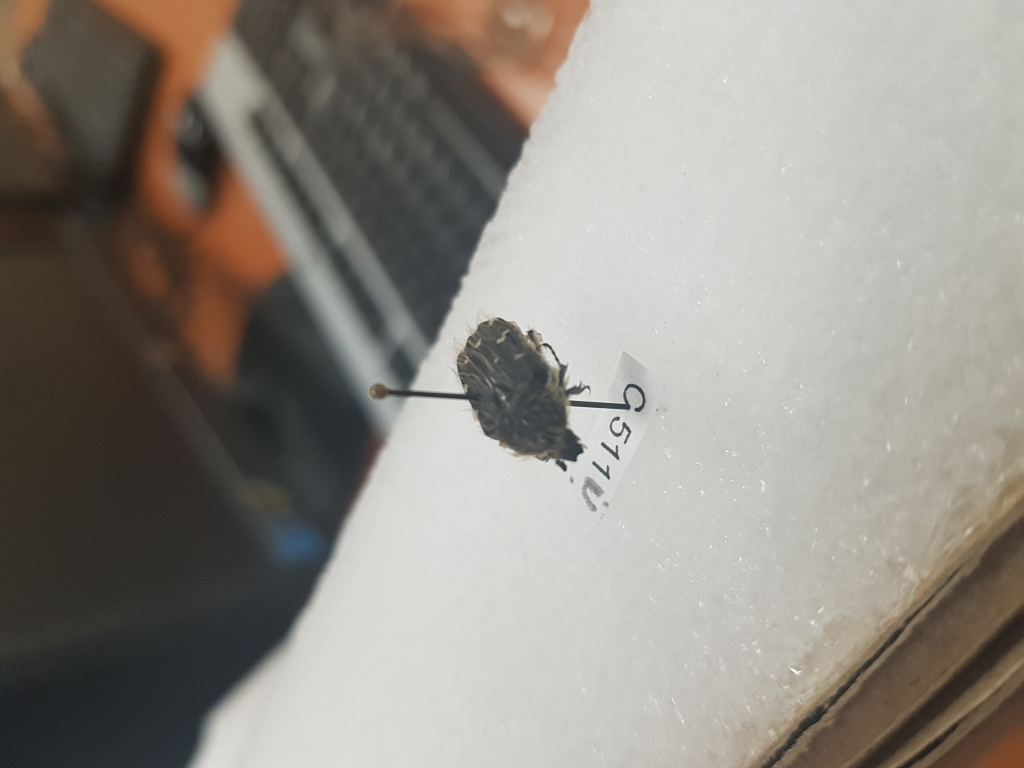Tropinota_senicula: (460, 311, 602, 479)
